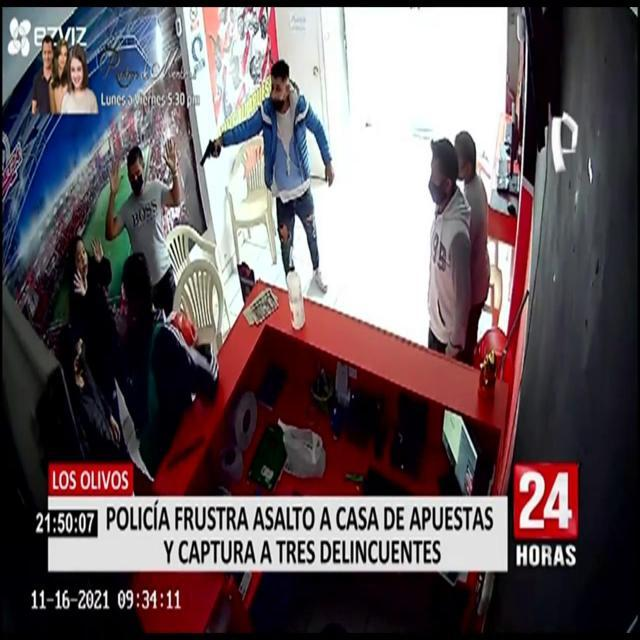pistol: (196, 125, 226, 172)
